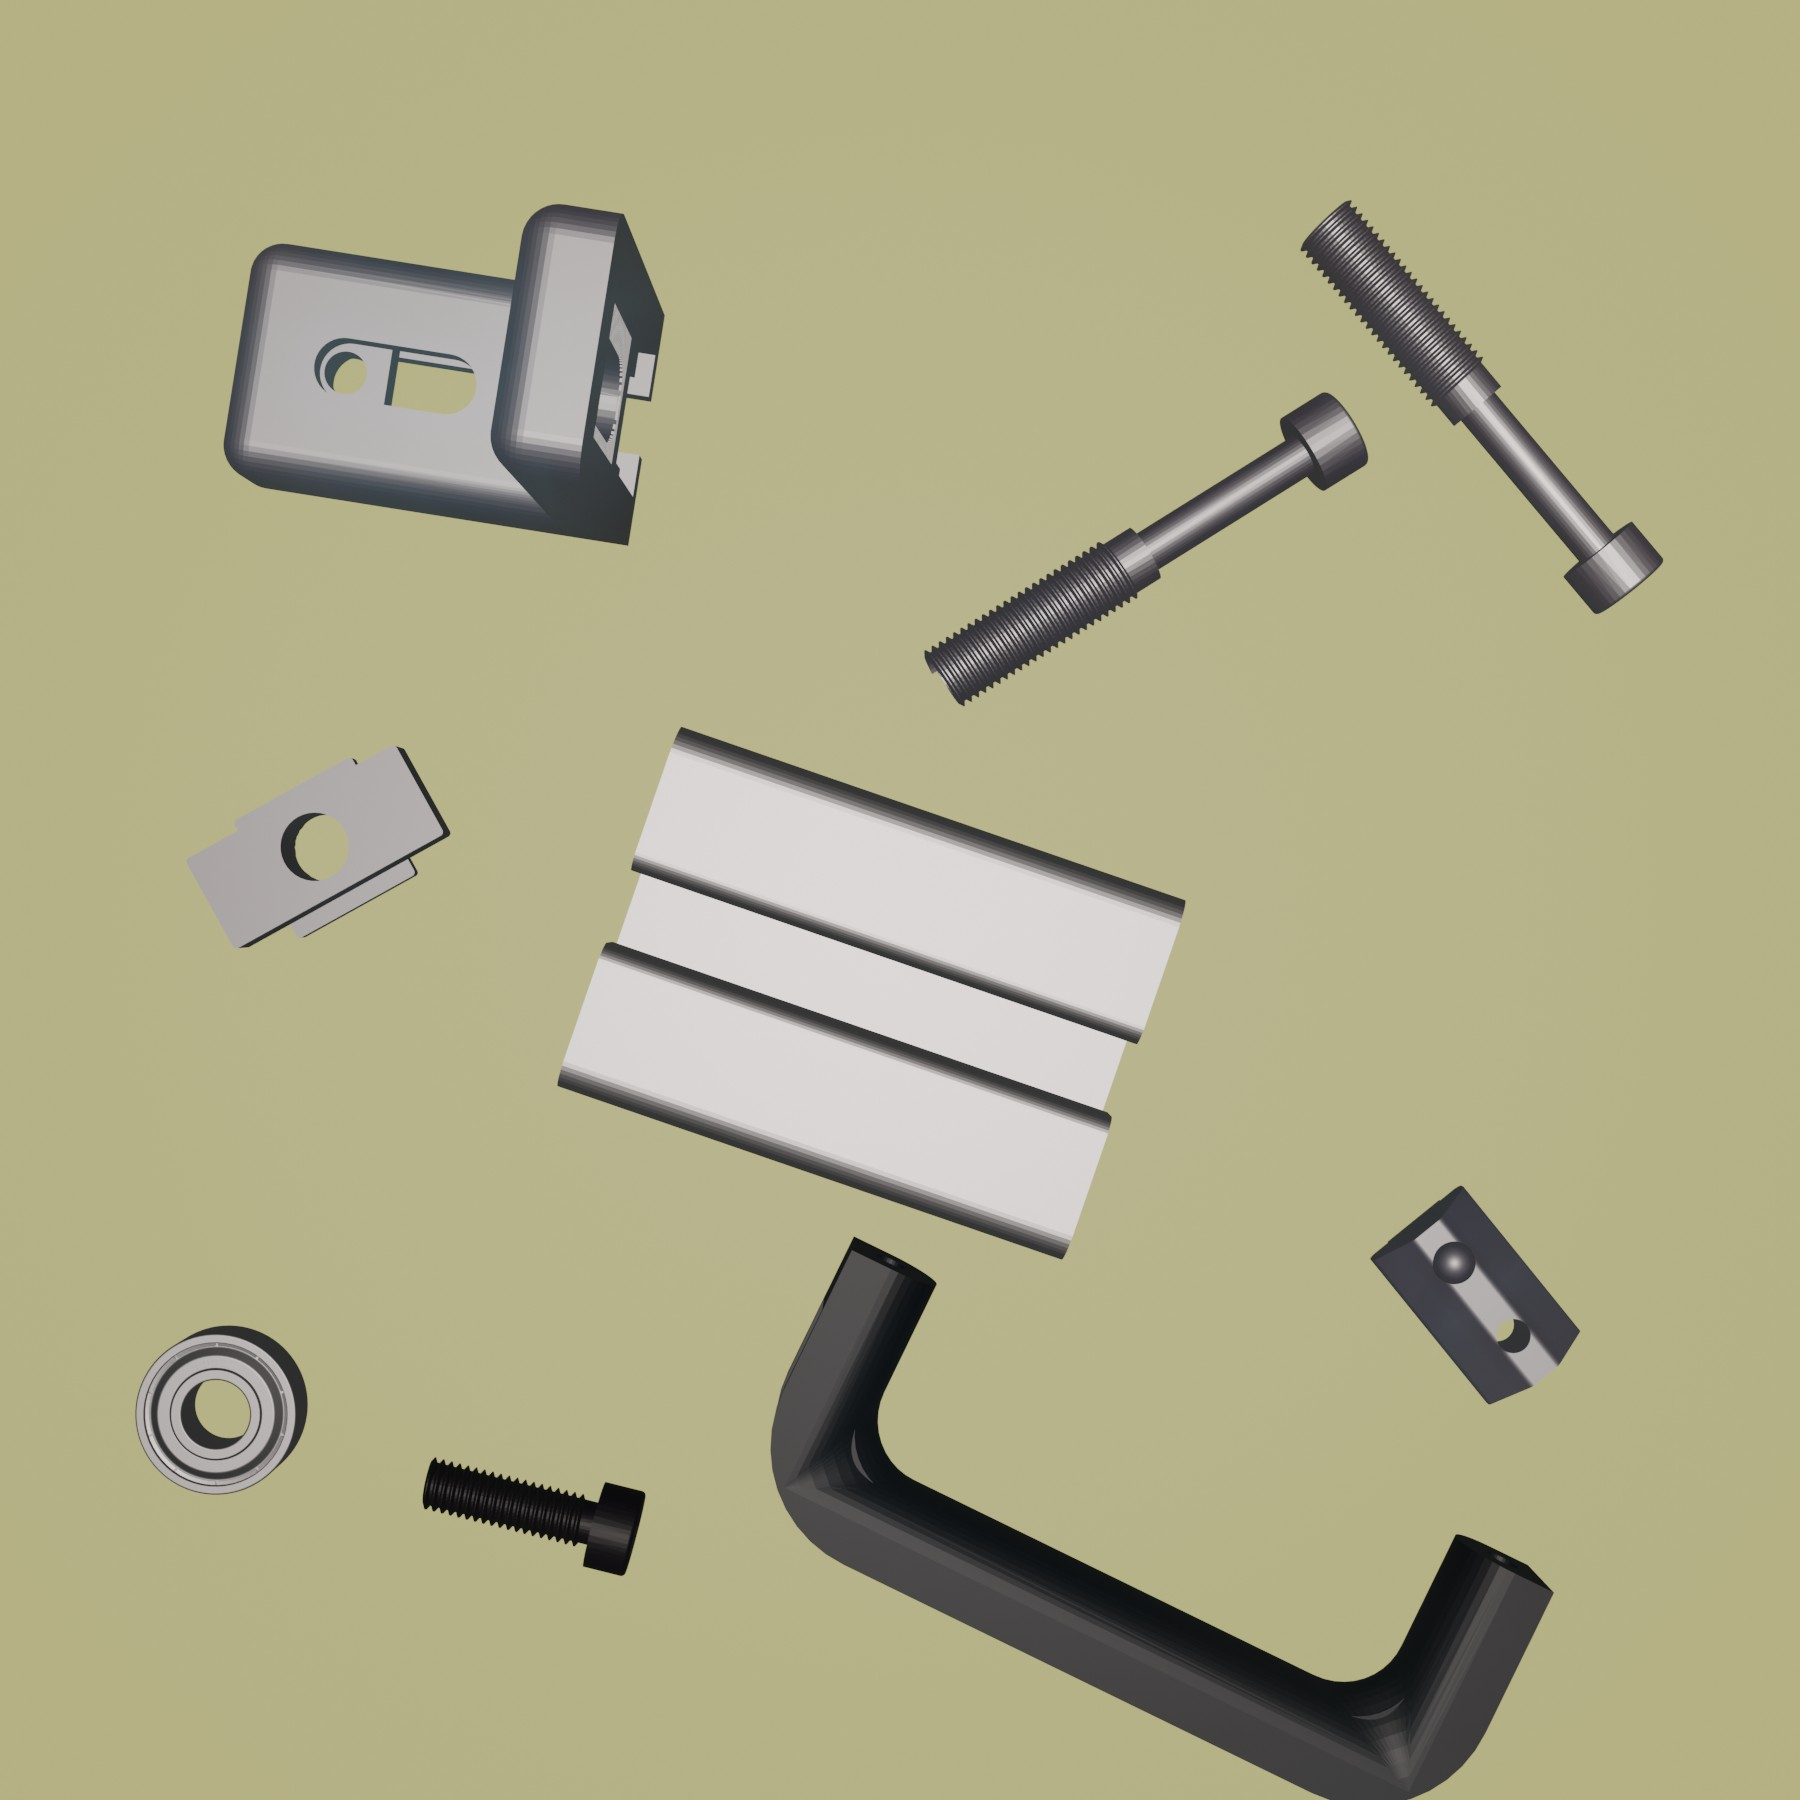Aluminium Extension: (552, 724, 1188, 1264)
Ball Bearing: (132, 1320, 308, 1498)
Multiwinkel: (221, 201, 668, 551)
Pull Handle: (770, 1235, 1558, 1800)
Shoulder Socket Head Cap Screw: (1296, 196, 1666, 616), (920, 387, 1370, 707)
Socket Head Cap Screw: (417, 1451, 648, 1581)
T Nut Square: (181, 738, 455, 951)
T Spring Nut: (1366, 1180, 1582, 1408)
